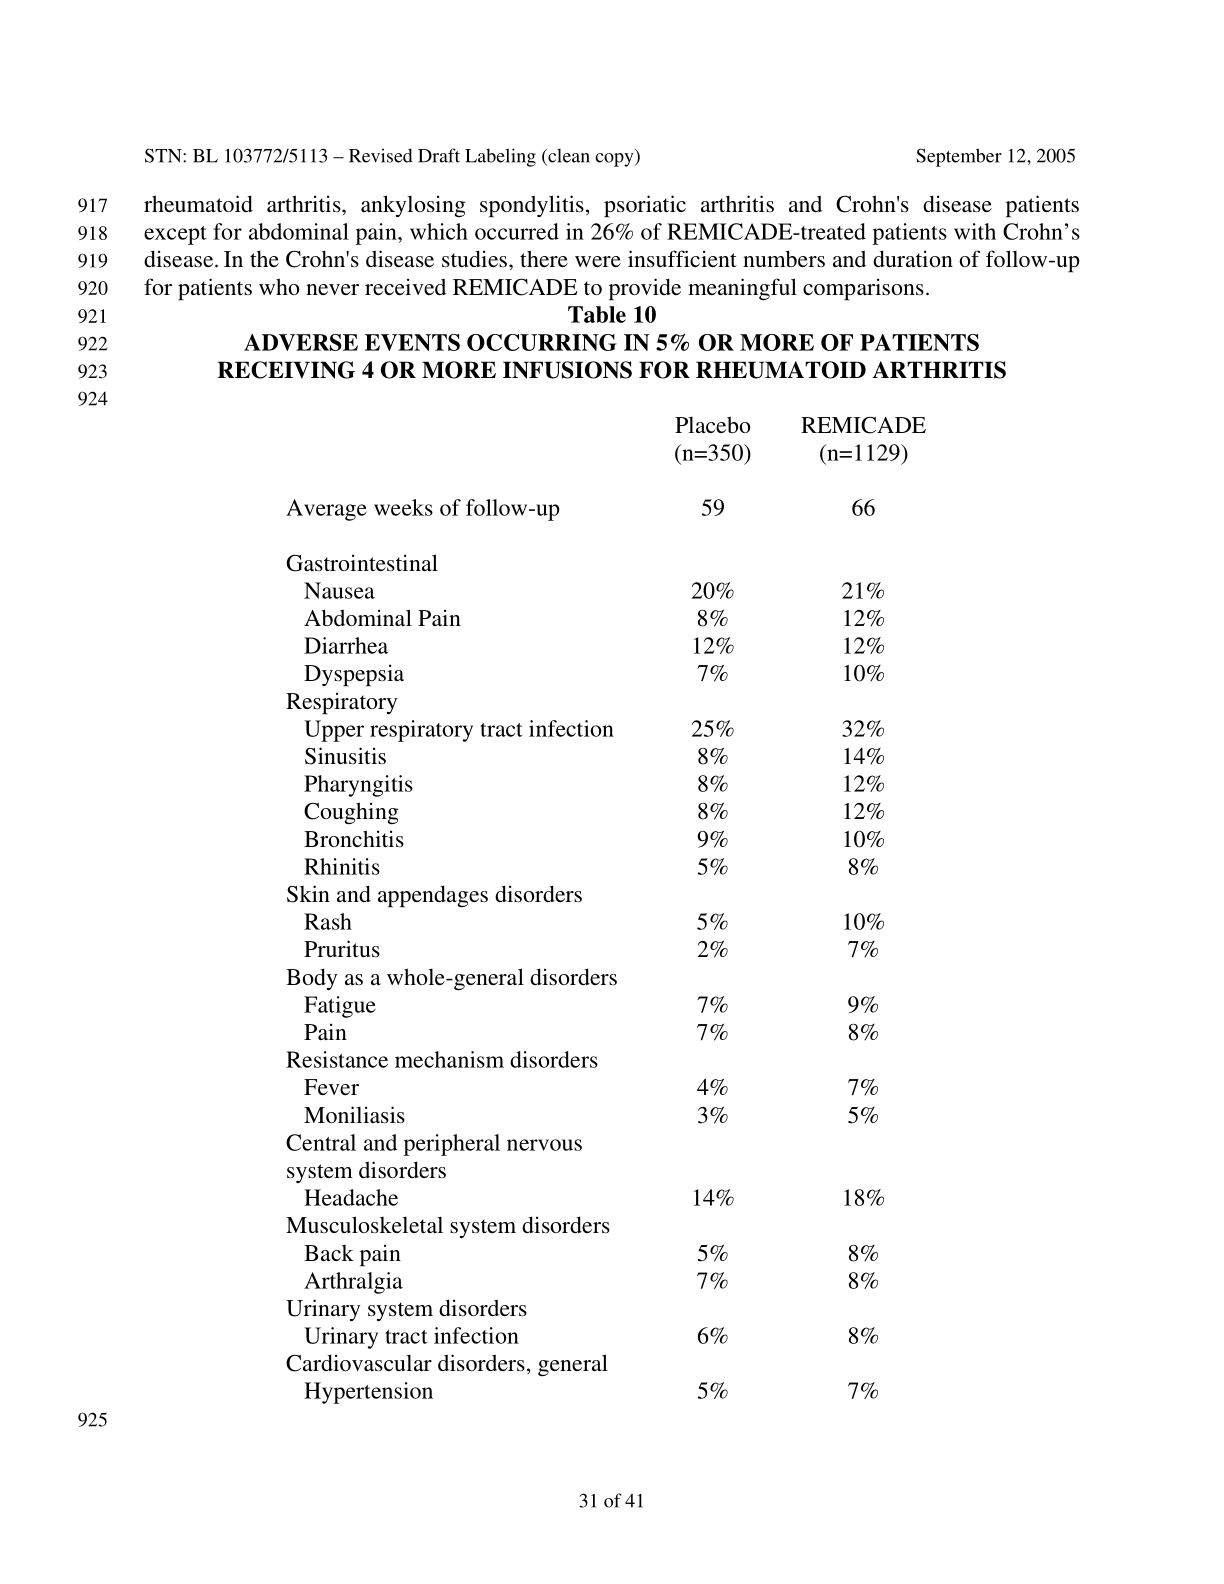nolines: (283, 413, 926, 1409)
